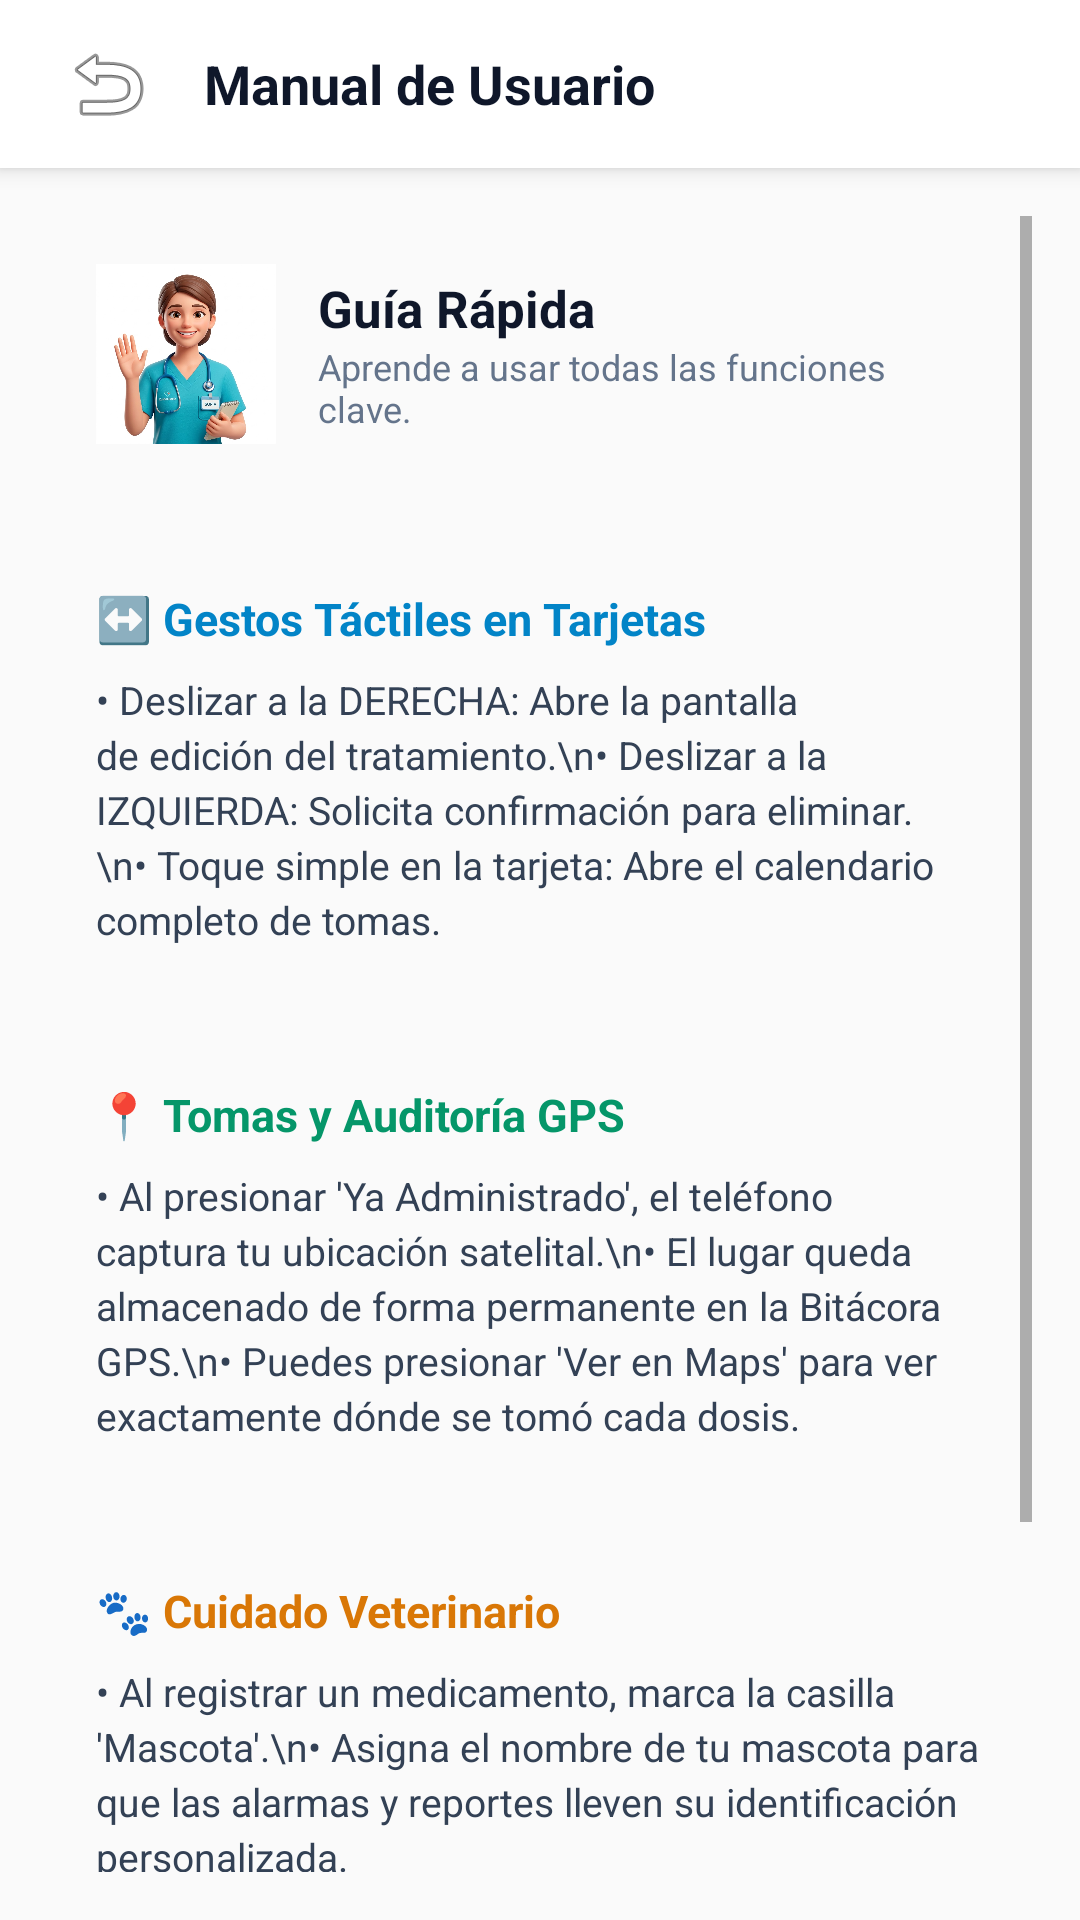

Locate icon controls on the screen. Image size 1080w x 1920h, boxes as (x1, y1, x2, y2).
nurse: (114, 274, 246, 444)
Regresar: (75, 53, 144, 116)
